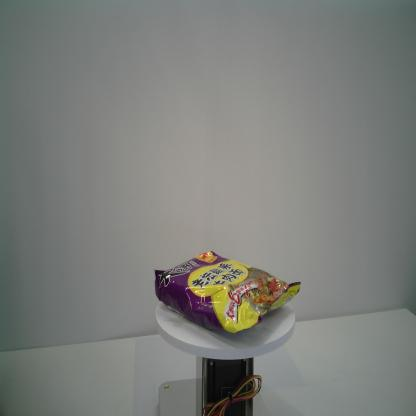Instant Noodles: (153, 249, 301, 334)
